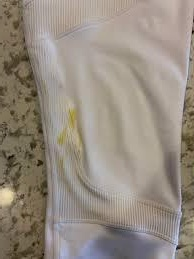mustard: (58, 109, 77, 143), (54, 155, 63, 178)
